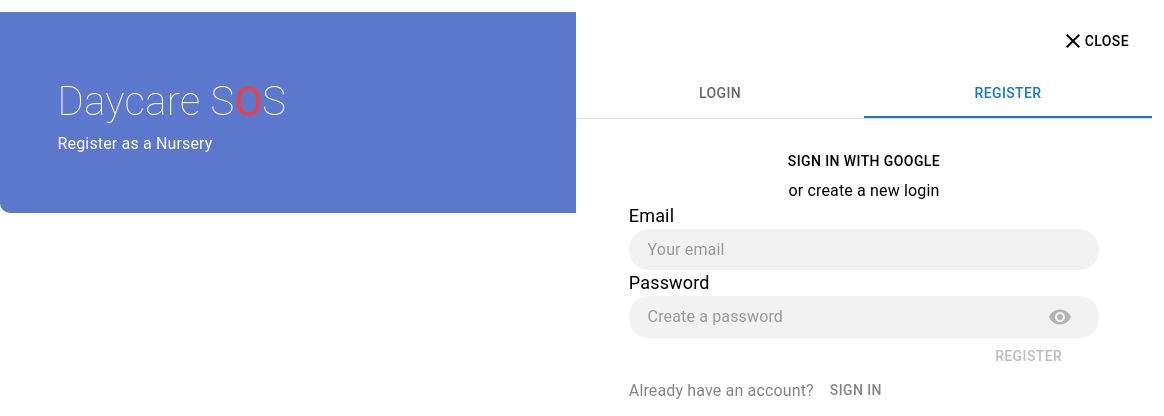
Test case: register button should be disabled unless both fields have text
Expected: the button "Register" is disabled, top-left (958, 338), bottom-right (1099, 374)
Type "manel@email.com" into the field with placeholder "Your email". click: x=864, y=250
box: top-left (648, 234), bottom-right (1080, 266)
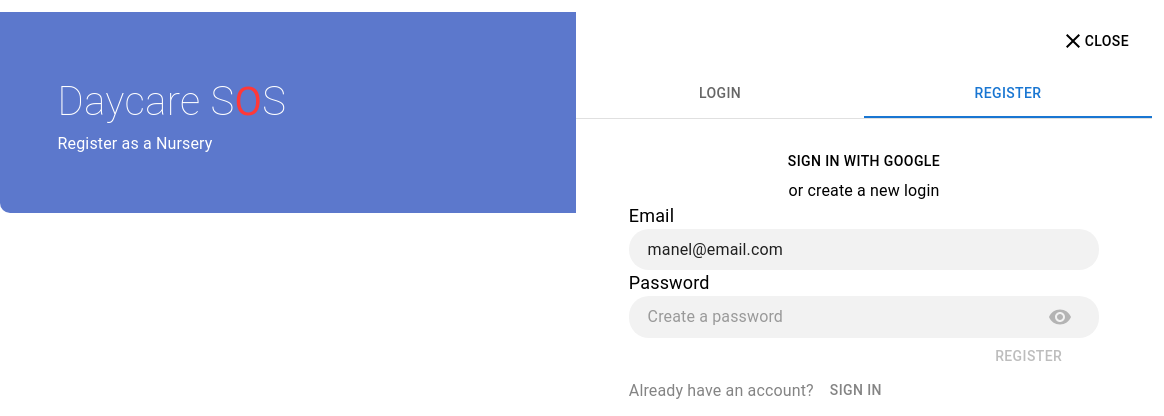
Type "password" into the password field with placeholder "Create a password". click: x=840, y=317
box: top-left (648, 301), bottom-right (1032, 333)
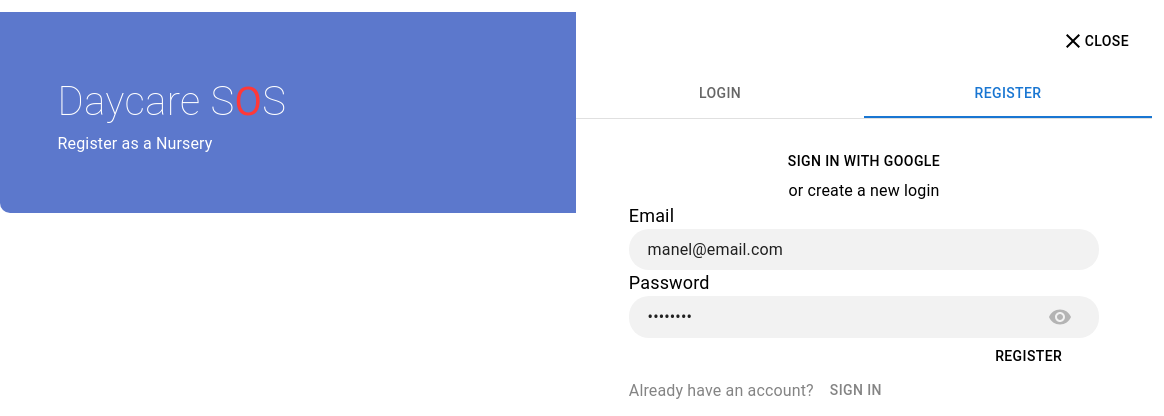
Result: the button "Register" is enabled at top-left (958, 338), bottom-right (1099, 374)
